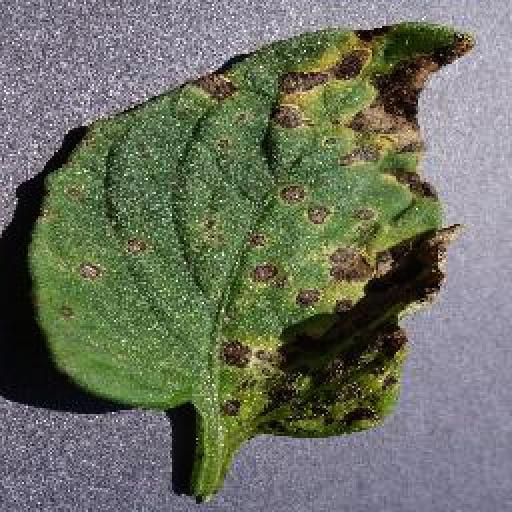disease_tomato: (32, 18, 478, 434)
